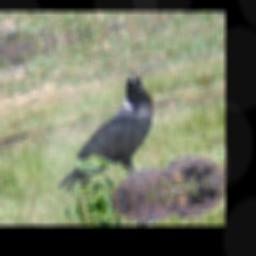Crow: (37, 71, 168, 197)
